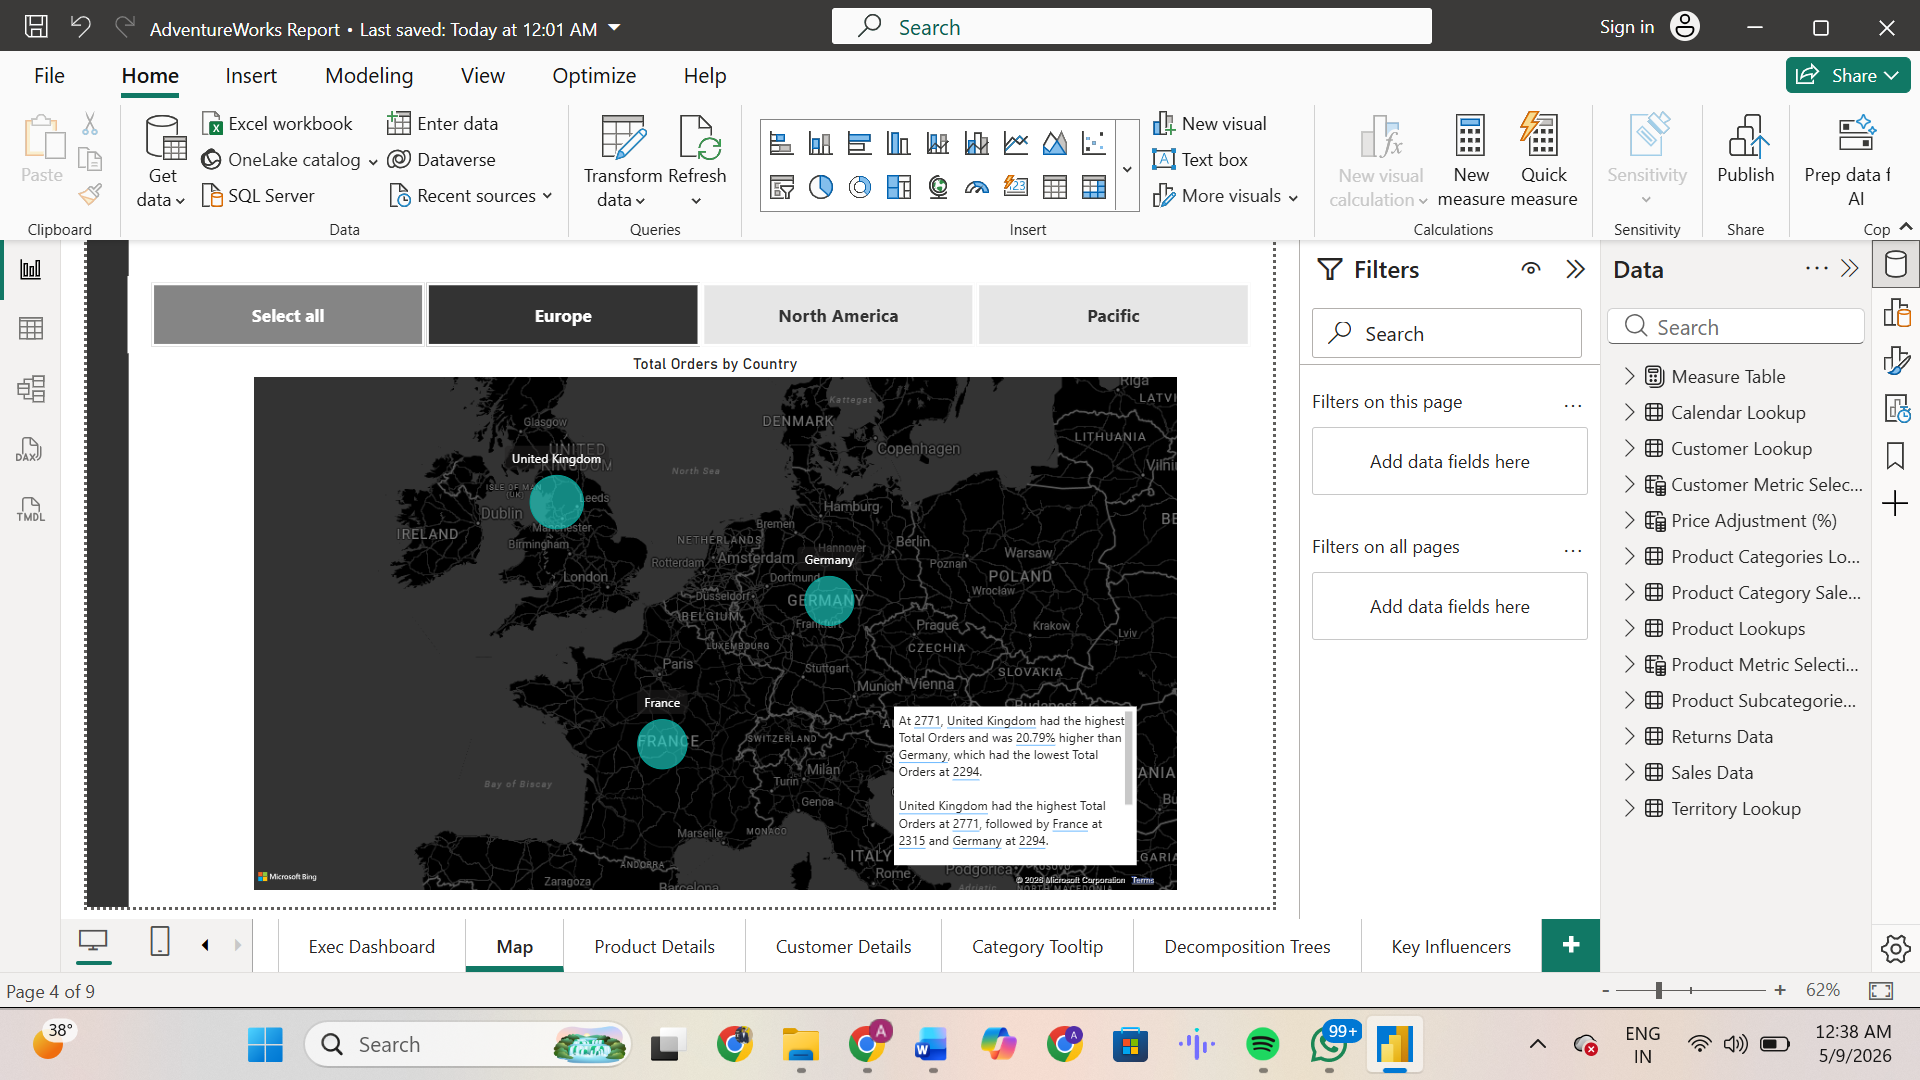

The page's visual inventory and layout, read from the dashboard file:
{"tool":"powerbi","page":{"name":"Map","canvas":[1280,720],"ordinal":3},"visuals":[{"type":"shape","box":[0,0,45,720],"z":0},{"type":"map","fields":{"Category":["Territory Lookup.Country"],"Size":["Measure Table.Total Orders"]},"box":[174.7,123.1,1006.7,583.8],"z":1000},{"type":"slicer","fields":{"Values":["Territory Lookup.Continent"]},"box":[43.4,39.6,1235.8,83],"z":2000},{"type":"textbox","box":[863,399.9,268.8,259.1],"z":3000}]}

Visuals, with their boxes on the page's 1280x720 design canvas (x1, y1, x2, y2). These are canvas units, not pixel positions in the 1920x1080 screenshot, which may show the page scaled, cropped or inside an application window:
shape: <box>0,0,45,720</box>
map - Territory Lookup.Country x Measure Table.Total Orders: <box>175,123,1181,707</box>
slicer - Territory Lookup.Continent: <box>43,40,1279,123</box>
textbox: <box>863,400,1132,659</box>
